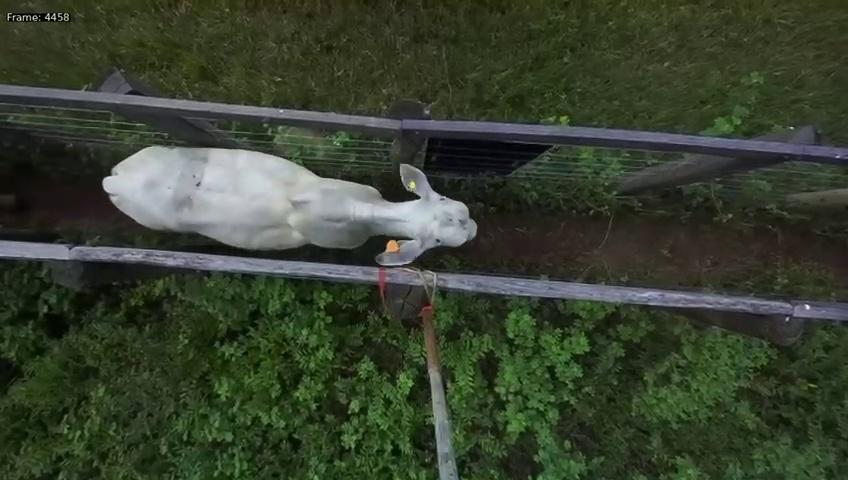cattle: (93, 133, 479, 266)
